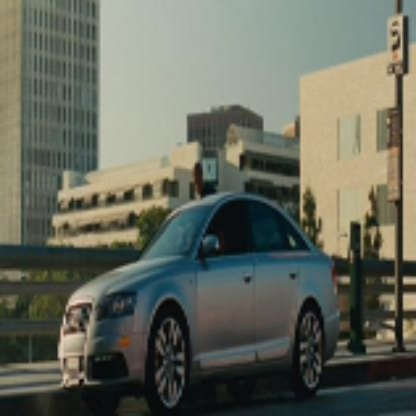Vehicle: (58, 195, 341, 413)
